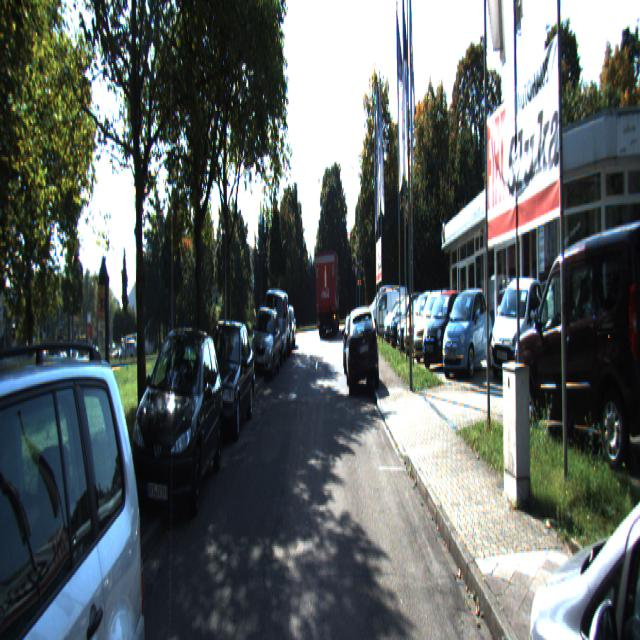Car: (0, 327, 168, 639), (522, 324, 640, 638), (514, 204, 639, 467), (127, 322, 225, 530), (192, 314, 256, 447), (607, 203, 640, 428), (489, 271, 550, 383), (440, 288, 495, 380), (422, 285, 468, 369), (412, 293, 459, 367), (344, 306, 381, 400), (401, 287, 448, 356), (249, 306, 281, 383), (261, 285, 289, 365), (316, 250, 340, 339), (368, 290, 403, 340)
